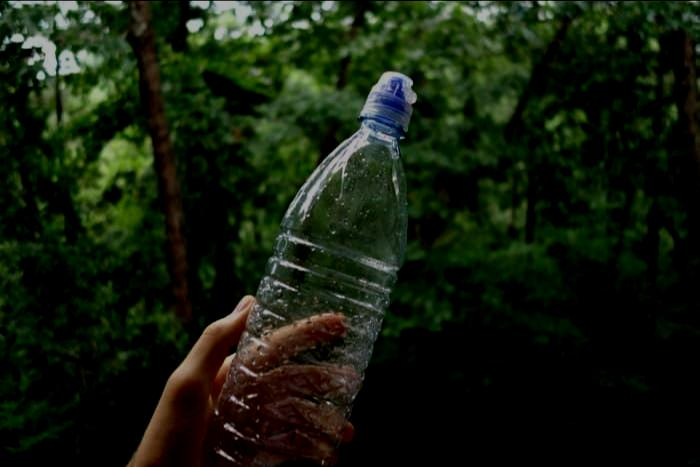bottle: (180, 61, 450, 467)
